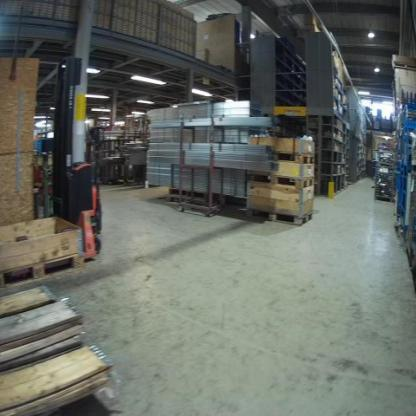pallet: (1, 247, 87, 290), (246, 169, 314, 188), (246, 208, 313, 226), (270, 151, 314, 165)
pallet_truck: (52, 54, 101, 260)
stillage: (404, 170, 416, 266), (374, 165, 395, 202)
